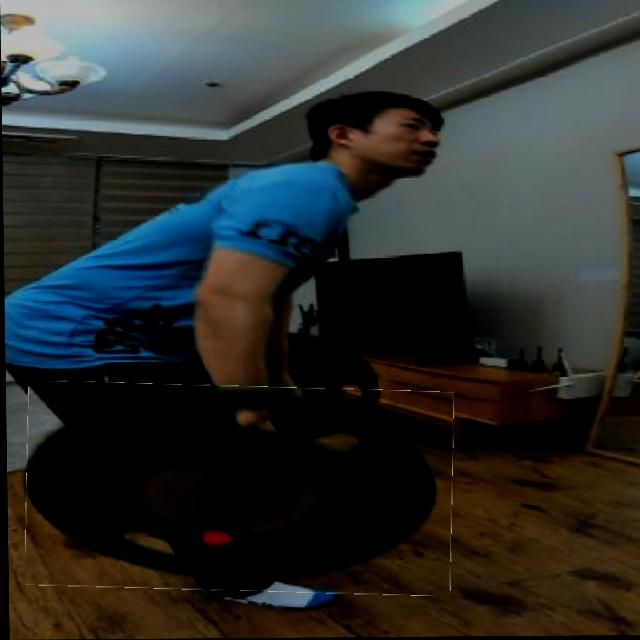barbell: (24, 383, 454, 596)
